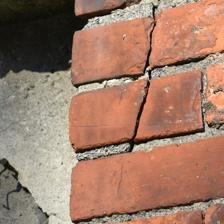Crack: (122, 4, 163, 155), (5, 160, 53, 222)
